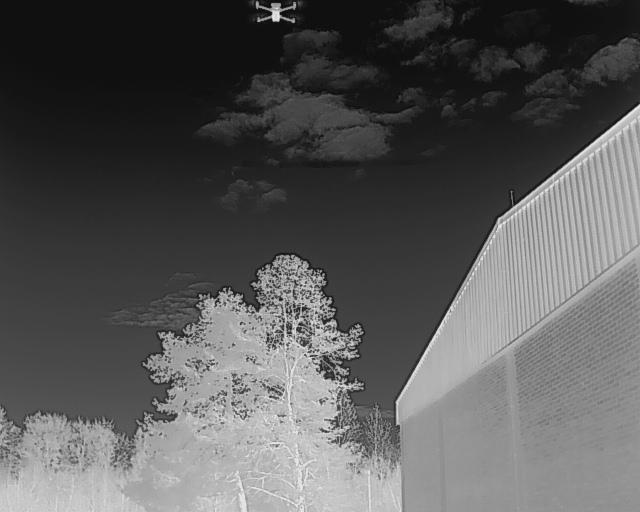drone: (246, 0, 304, 41)
